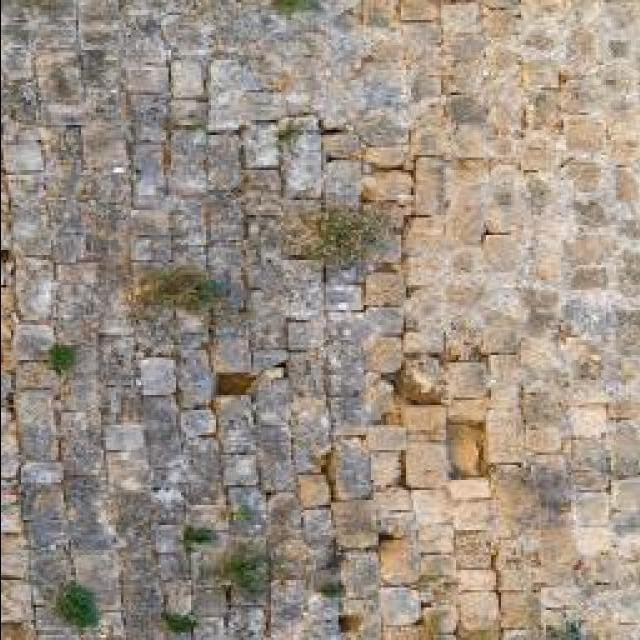crack: (1, 0, 638, 638), (127, 390, 192, 496), (220, 4, 304, 75), (70, 6, 113, 141), (205, 54, 272, 129), (59, 472, 122, 547), (346, 63, 416, 130), (524, 194, 577, 279), (442, 171, 497, 247), (204, 238, 257, 311), (23, 479, 74, 553), (483, 166, 536, 237), (169, 127, 224, 194), (252, 375, 299, 452), (80, 118, 131, 187), (282, 126, 327, 198), (13, 389, 58, 458), (265, 493, 311, 558), (128, 138, 173, 202), (259, 463, 275, 640), (204, 130, 250, 188), (16, 266, 60, 322), (175, 351, 217, 409), (242, 121, 287, 173), (322, 155, 367, 207), (71, 550, 121, 596), (411, 165, 451, 220), (361, 166, 416, 206), (268, 580, 312, 629), (185, 538, 230, 585), (168, 56, 212, 103), (213, 395, 254, 444), (120, 62, 169, 102), (12, 320, 57, 363), (445, 88, 493, 128), (562, 115, 609, 155), (137, 354, 180, 397), (480, 232, 525, 272), (105, 456, 150, 496), (58, 408, 97, 454), (213, 335, 256, 375), (322, 274, 364, 314), (50, 226, 90, 268), (516, 285, 563, 320), (9, 135, 48, 177), (130, 94, 173, 131), (362, 270, 405, 306), (103, 422, 147, 457), (221, 452, 261, 489), (242, 166, 283, 202), (180, 407, 218, 445), (20, 459, 63, 491), (131, 235, 174, 266), (359, 145, 408, 171), (224, 606, 265, 637), (152, 521, 185, 559), (285, 318, 320, 351), (396, 0, 440, 21), (72, 0, 82, 88), (319, 124, 348, 138), (321, 261, 328, 300)
vegetation: (549, 149, 640, 324), (55, 166, 135, 273), (290, 201, 396, 265), (131, 264, 228, 314), (209, 349, 280, 401), (53, 580, 102, 636), (220, 545, 269, 594), (279, 214, 328, 259), (274, 118, 309, 153), (47, 342, 77, 378), (264, 0, 319, 18), (160, 611, 198, 635), (182, 524, 215, 549), (229, 502, 254, 526), (0, 247, 12, 267)
